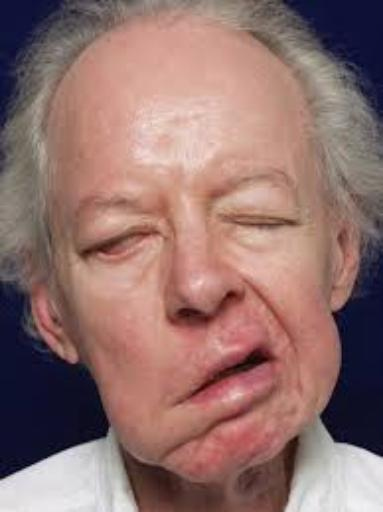left_eye: (219, 208, 315, 238)
left_lip_corner: (263, 347, 288, 371)
right_eye: (83, 224, 158, 262)
right_lip_corner: (164, 397, 191, 414)
